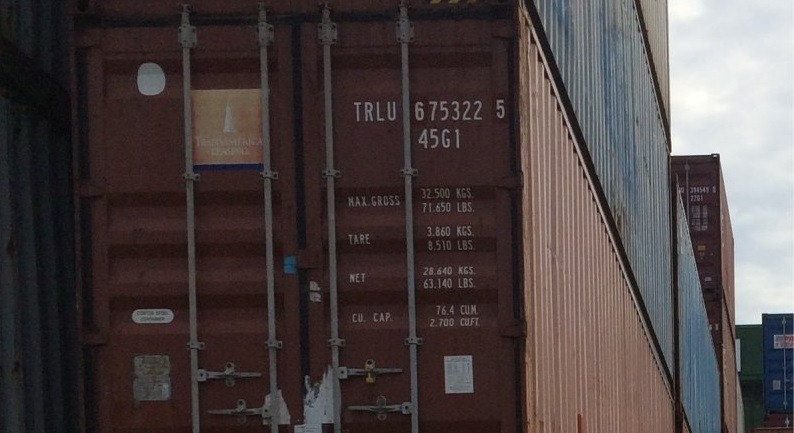container_door: (66, 10, 537, 428)
